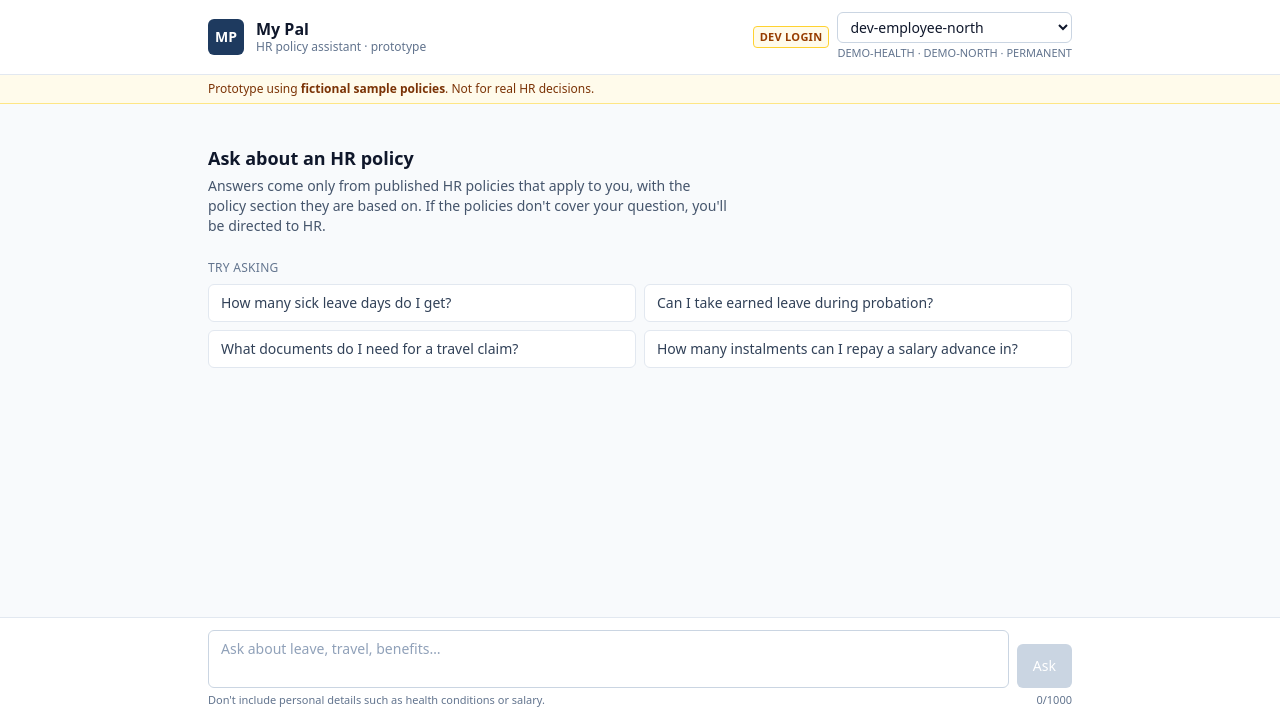
Test: My Pal chat › shows server errors and can retry the same question
Type "How many sick leave days do I get?" into the text box named "Your question" at (608, 658), box 208,630 -> 1009,688
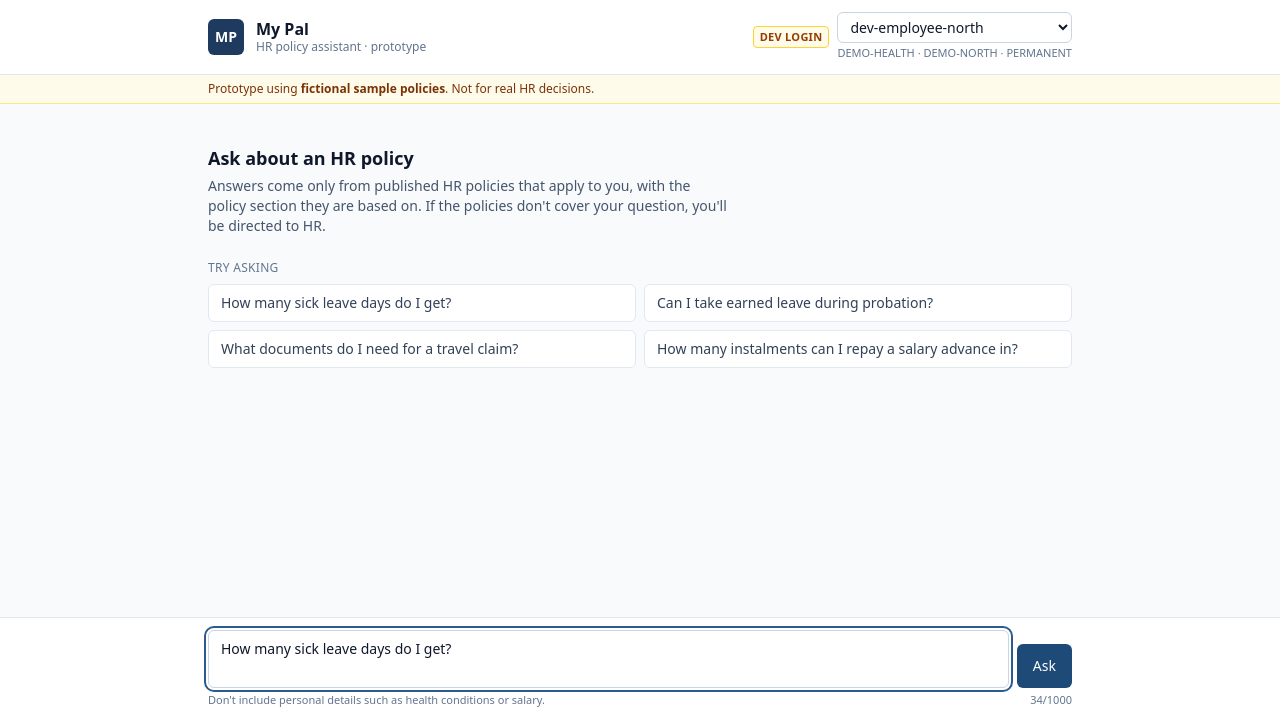
Press Enter
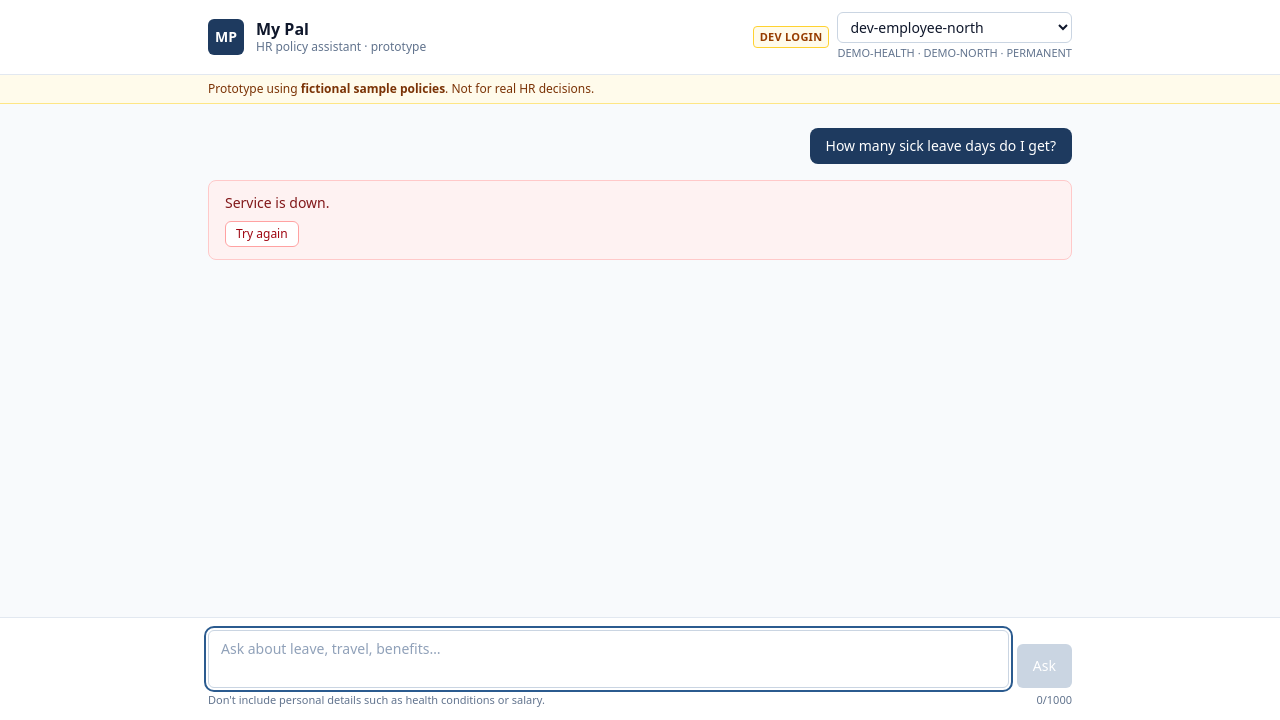
Result: the message shows "Service is down." at 225,192 -> 330,212
Click the button "Try again" at (262, 234), box 225,220 -> 299,246
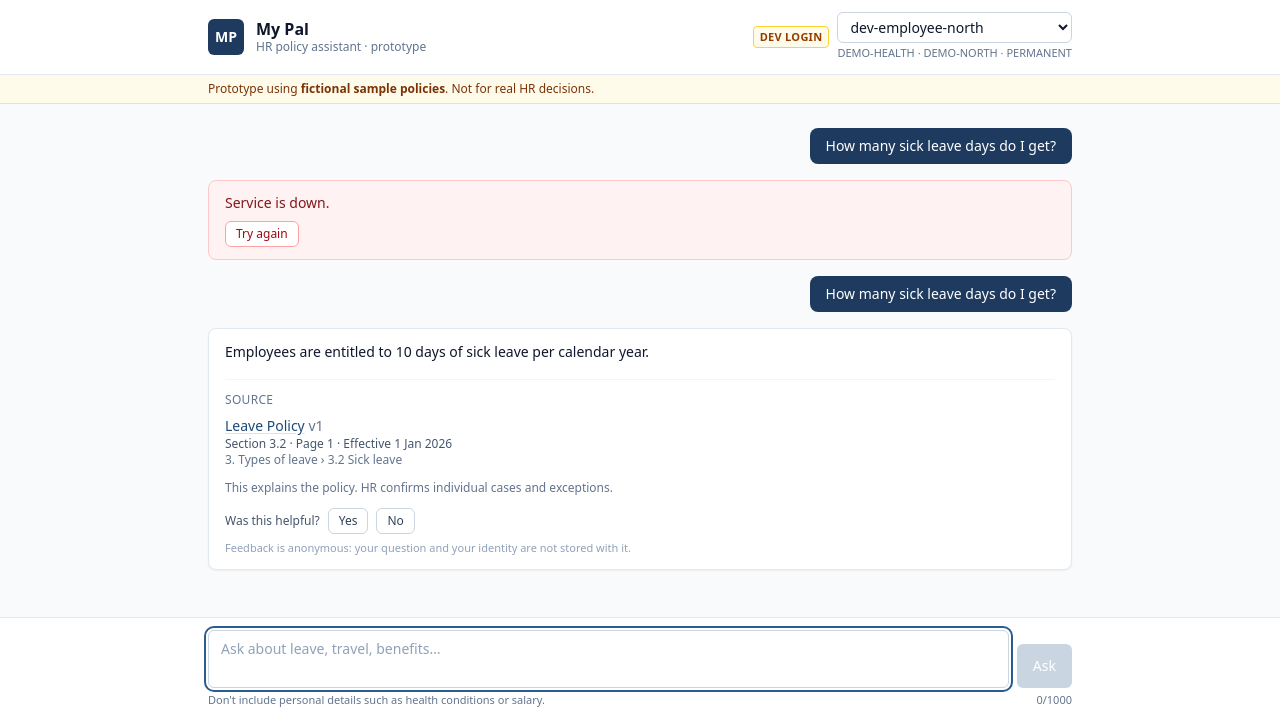
Result: the element named "Answer" is shown at 208,328 -> 1072,570
